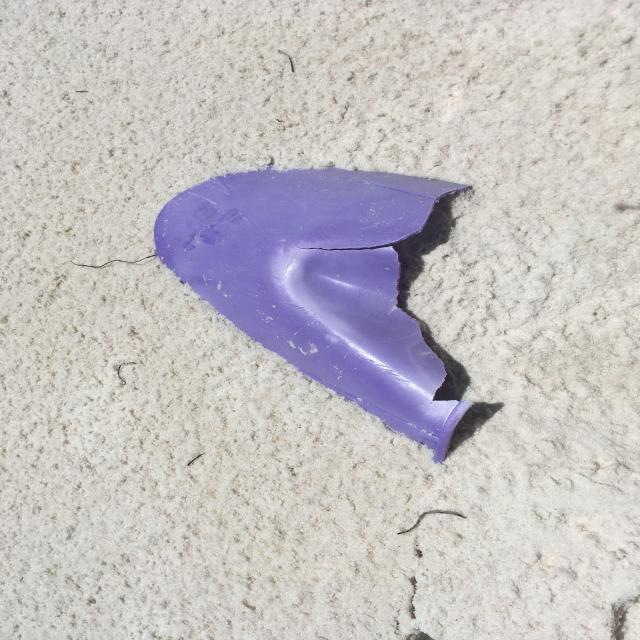litter: (163, 177, 443, 440)
